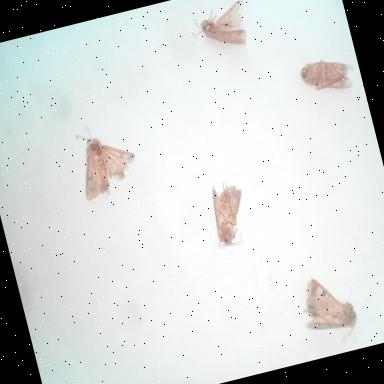abw: (64, 110, 147, 207), (288, 265, 366, 355), (199, 172, 259, 254), (181, 0, 257, 60), (293, 46, 361, 106)
